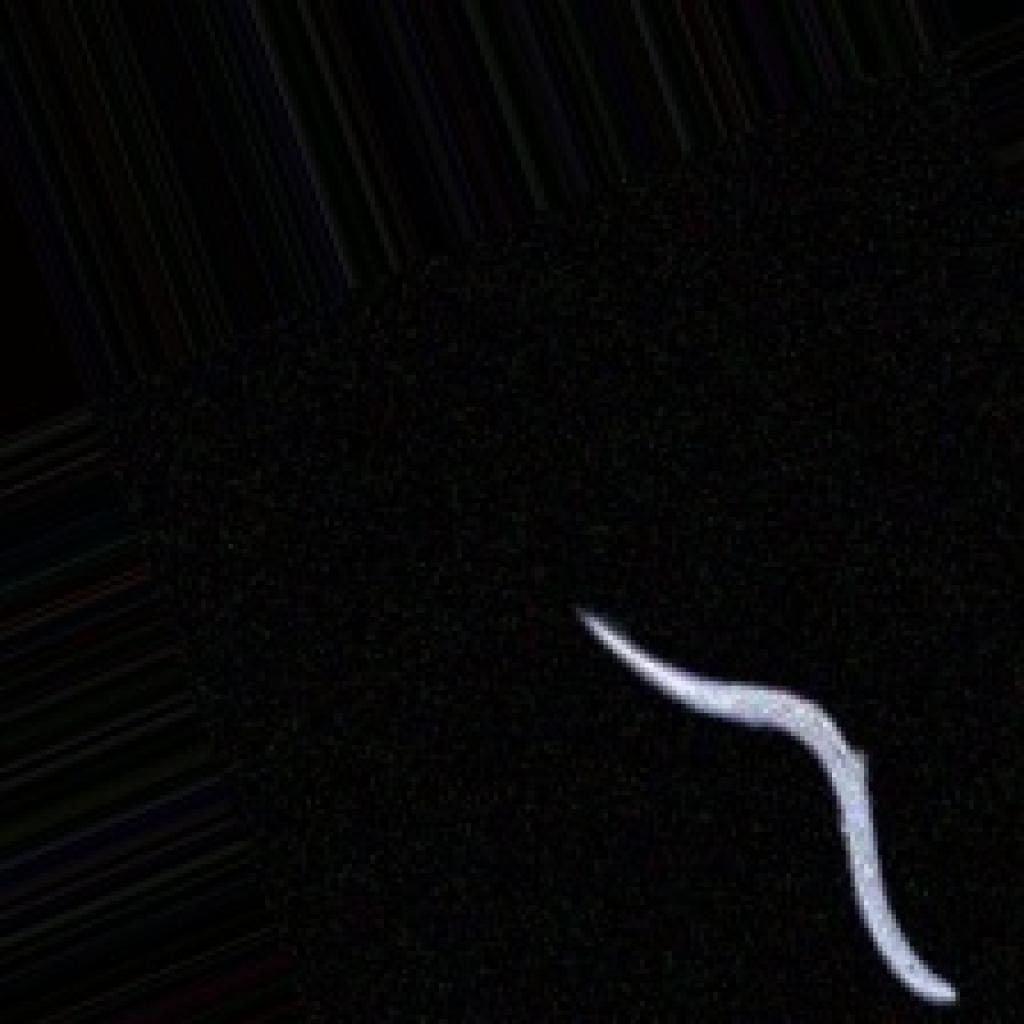Nematode: (105, 68, 1020, 1020)
